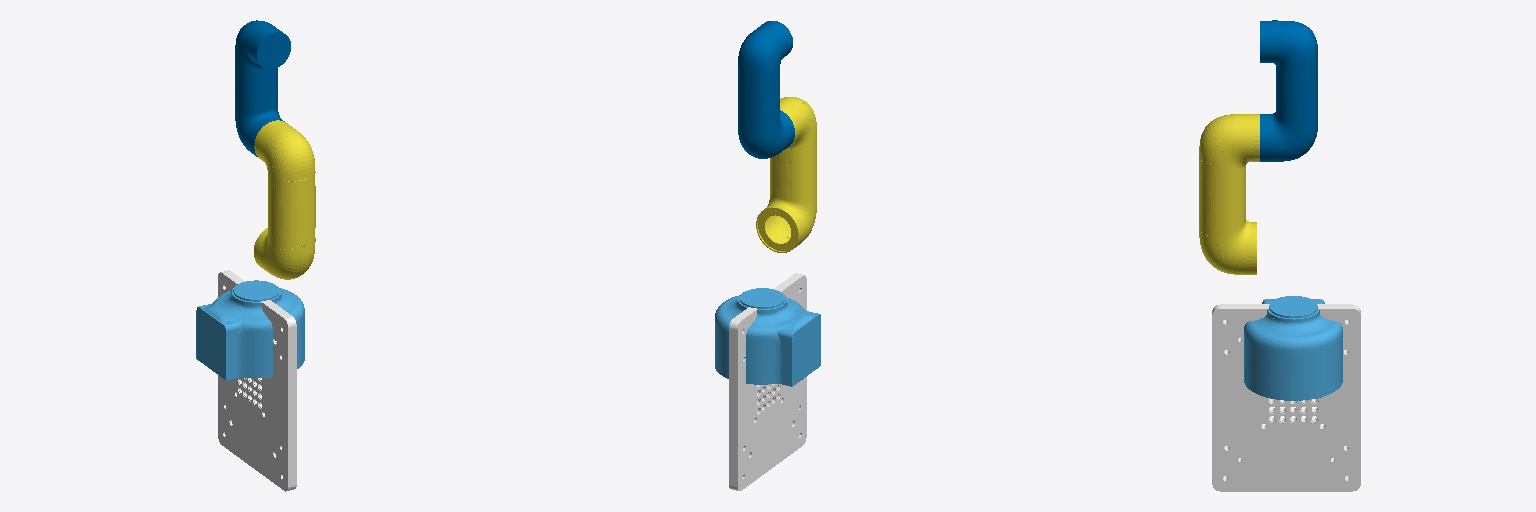
robot.urdf — mycobot_ai:
<?xml version="1.0"?>
<robot xmlns:xacro="http://www.ros.org/wiki/xacro" name="mycobot_ai">


  <link name="env">
    <visual>
      <geometry>
        <!--- 0.0 0 -0.04  1.5708 3.14159-->
        <mesh filename="package://mycobot_description/urdf/mycobot_280_m5/suit_env.dae" scale="1.2 1.2 1.2"/>
      </geometry>
      <origin xyz = "0 0 -0.02 " rpy = "1.5708 0 -1.5708"/>
    </visual>
  </link>

  <link name="joint1">
    <visual>
      <geometry>
        <!--- 0.0 0 -0.04  1.5708 3.14159-->
        <mesh filename="package://mycobot_description/urdf/mycobot_280_m5/joint1.dae"/>
      </geometry>
      <origin xyz = "0.0 0 0 " rpy = " 0 0 -1.5708"/>
    </visual>
    <collision>
      <geometry>
        <!--- 0.0 0 -0.04  1.5708 3.14159-->
        <mesh filename="package://mycobot_description/urdf/mycobot_280_m5/joint1.dae"/>
      </geometry>
      <origin xyz = "0.0 0 0 " rpy = " 0 0 -1.5708"/>
    </collision>
  </link>

  <link name="joint2">
    <visual>
      <geometry>
        <mesh filename="package://mycobot_description/urdf/mycobot_280_m5/joint2.dae"/>
      </geometry>
      <origin xyz = "0.0 0 -0.06096 " rpy = " 0 0 -1.5708"/>
    </visual>
    <collision>
      <geometry>
        <mesh filename="package://mycobot_description/urdf/mycobot_280_m5/joint2.dae"/>
      </geometry>
      <origin xyz = "0.0 0 -0.06096 " rpy = " 0 0 -1.5708"/>
    </collision>
  </link>


  <link name="joint3">
    <visual>
      <geometry>
        <mesh filename="package://mycobot_description/urdf/mycobot_280_m5/joint3.dae"/>
      </geometry>
      <origin xyz = "0.0 0 0.03256 " rpy = " 0 -1.5708 0"/>
    </visual>
    <collision>
      <geometry>
        <mesh filename="package://mycobot_description/urdf/mycobot_280_m5/joint3.dae"/>
      </geometry>
      <origin xyz = "0.0 0 0.03256 " rpy = " 0 -1.5708 0"/>
    </collision>
  </link>


  <link name="joint4">
    <visual>
      <geometry>
        <!--- 0.0 0 -0.04 -->
        <mesh filename="package://mycobot_description/urdf/mycobot_280_m5/joint4.dae"/>
      </geometry>
      <origin xyz = "0.0 0 0.03056 " rpy = " 0 -1.5708 0"/>
    </visual>
    <collision>
      <geometry>
        <!--- 0.0 0 -0.04 -->
        <mesh filename="package://mycobot_description/urdf/mycobot_280_m5/joint4.dae"/>
      </geometry>
      <origin xyz = "0.0 0 0.03056 " rpy = " 0 -1.5708 0"/>
    </collision>
  </link>


  <link name="joint5">
    <visual>
      <geometry>
        <!--- 0.0 0 -0.04 -->
        <mesh filename="package://mycobot_description/urdf/mycobot_280_m5/joint5.dae"/>
      </geometry>
      <origin xyz = "0.0 0 -0.03356 " rpy = "-1.5708 0 0"/>
    </visual>
    <collision>
      <geometry>
        <!--- 0.0 0 -0.04 -->
        <mesh filename="package://mycobot_description/urdf/mycobot_280_m5/joint5.dae"/>
      </geometry>
      <origin xyz = "0.0 0 -0.03356 " rpy = "-1.5708 0 0"/>
    </collision>
  </link>


  <link name="joint6">
    <visual>
      <geometry>
        <!--- 0.0 0 -0.04 -->
        <mesh filename="package://mycobot_description/urdf/mycobot_280_m5/joint6.dae"/>
      </geometry>
      <origin xyz = "0 0.00 -0.038 " rpy = " 0 0 0"/>
    </visual>
    <collision>
      <geometry>
        <!--- 0.0 0 -0.04 -->
        <mesh filename="package://mycobot_description/urdf/mycobot_280_m5/joint6.dae"/>
      </geometry>
      <origin xyz = "0 0.00 -0.038 " rpy = " 0 0 0"/>
    </collision>
  </link>


  <link name="joint6_flange">
    <visual>
      <geometry>
        <!--- 0.0 0 -0.04 -->
        <mesh filename="package://mycobot_description/urdf/mycobot_280_m5/joint7.dae"/>
      </geometry>
      <origin xyz = "0.0 0 -0.012 " rpy = " 0 0 0"/>
    </visual>
    <collision>
      <geometry>
        <!--- 0.0 0 -0.04 -->
        <mesh filename="package://mycobot_description/urdf/mycobot_280_m5/joint7.dae"/>
      </geometry>
      <origin xyz = "0.0 0 -0.012 " rpy = " 0 0 0"/>
    </collision>
  </link>





  <joint name="joint2_to_joint1" type="revolute">
    <axis xyz="0 0 1"/>
    <limit effort = "1000.0" lower = "-2.9321" upper = "2.9321" velocity = "0"/>
    <parent link="joint1"/>
    <child link="joint2"/>
    <origin xyz= "0 0 0.13156" rpy = "0 0 0"/>
  </joint>

  <joint name="joint3_to_joint2" type="revolute">
    <axis xyz="0 0 1"/>
    <limit effort = "1000.0" lower = "-2.3561" upper = "2.3561" velocity = "0"/>
    <parent link="joint2"/>
    <child link="joint3"/>
    <origin xyz= "0 0  0" rpy = "0 1.5708 -1.5708"/>
  </joint>


  <joint name="joint4_to_joint3" type="revolute">
    <axis xyz=" 0 0 1"/>
    <limit effort = "1000.0" lower = "-2.6179" upper = "2.6179" velocity = "0"/>
    <parent link="joint3"/>
    <child link="joint4"/>
    <origin xyz= "  -0.1104 0 0   " rpy = "0 0 0"/>
  </joint>



  <joint name="joint5_to_joint4" type="revolute">
    <axis xyz=" 0 0 1"/>
    <limit effort = "1000.0" lower = "-2.5307" upper = "2.5307" velocity = "0"/>
    <parent link="joint4"/>
    <child link="joint5"/>
    <origin xyz= "-0.096 0 0.06462" rpy = "0 0 -1.5708"/>
  </joint>

  <joint name="joint6_to_joint5" type="revolute">
    <axis xyz="0 0 1"/>
    <limit effort = "1000.0" lower = "-2.8797" upper = "2.8797" velocity = "0"/>
    <parent link="joint5"/>
    <child link="joint6"/>
    <origin xyz= "0 -0.07318 0" rpy = "1.5708 -1.5708 0"/>
  </joint>

  <joint name="joint6output_to_joint6" type="revolute">
    <axis xyz="0 0 1"/>
    <limit effort = "1000.0" lower = "-3.14" upper = "3.14159" velocity = "0"/>
    <parent link="joint6"/>
    <child link="joint6_flange"/>
    <origin xyz= "0 0.0456 0" rpy = "-1.5708 0 0"/>
  </joint>

  <joint name="vision_joint" type="fixed">
    <axis xyz="0 0 0"/>
    <limit effort = "1000.0" lower = "-3.14" upper = "3.14159" velocity = "0"/>
    <parent link="joint1"/>
    <child link="env"/>
    <origin xyz= "0 0 0" rpy = "0 0 0"/>
  </joint>

</robot>

--- Render facts (derived) ---
The picture shows the robot from 3 angles, left to right: view 1: azimuth 30°, elevation 25°; view 2: azimuth 150°, elevation 25°; view 3: azimuth 270°, elevation 25°; orthographic projection.
Robot: mycobot_ai — 8 links, 7 joints (6 revolute, 1 fixed); root link joint1; default pose: every joint at zero.
Visible links, largest first — view 1: env, joint3, joint1, joint4; view 2: env, joint1, joint3, joint4; view 3: env, joint1, joint3, joint4.
Boxes of the visible links, box(x1,y1,x2,y2) form: env: box(218, 270, 296, 491); joint3: box(254, 120, 315, 279); joint1: box(196, 280, 304, 380); joint4: box(235, 20, 290, 156); env: box(729, 273, 806, 490); joint1: box(715, 288, 820, 386); joint3: box(756, 97, 816, 252); joint4: box(738, 21, 794, 158); env: box(1212, 304, 1360, 491); joint1: box(1244, 296, 1342, 400); joint3: box(1199, 114, 1259, 274); joint4: box(1260, 20, 1317, 161).
Size in the robot's own frame: 0.0968 by 0.1462 by 0.4683 metres.
Meshes: 8 distinct files referenced, 4 mesh visuals loaded (4 Collada DAE); not drawn: 4 (reference not matched to a file when rendering).